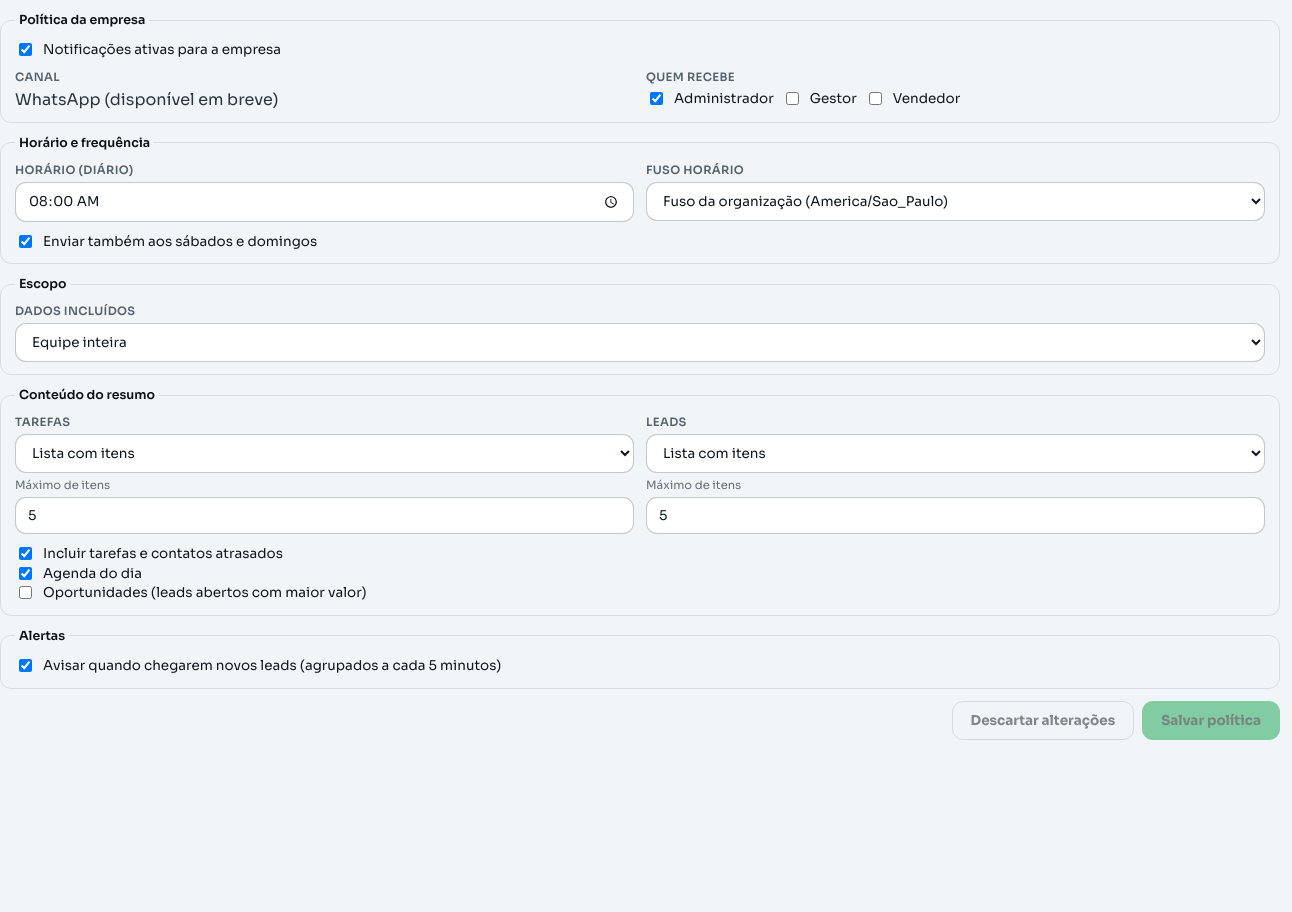
Test: CompanyPolicyPanel › envia PATCH parcial com a versão lida
Replace the text in the time field labelled "Horário (diário)" with "07:30": (324, 202) x1=15 y1=182 x2=634 y2=222
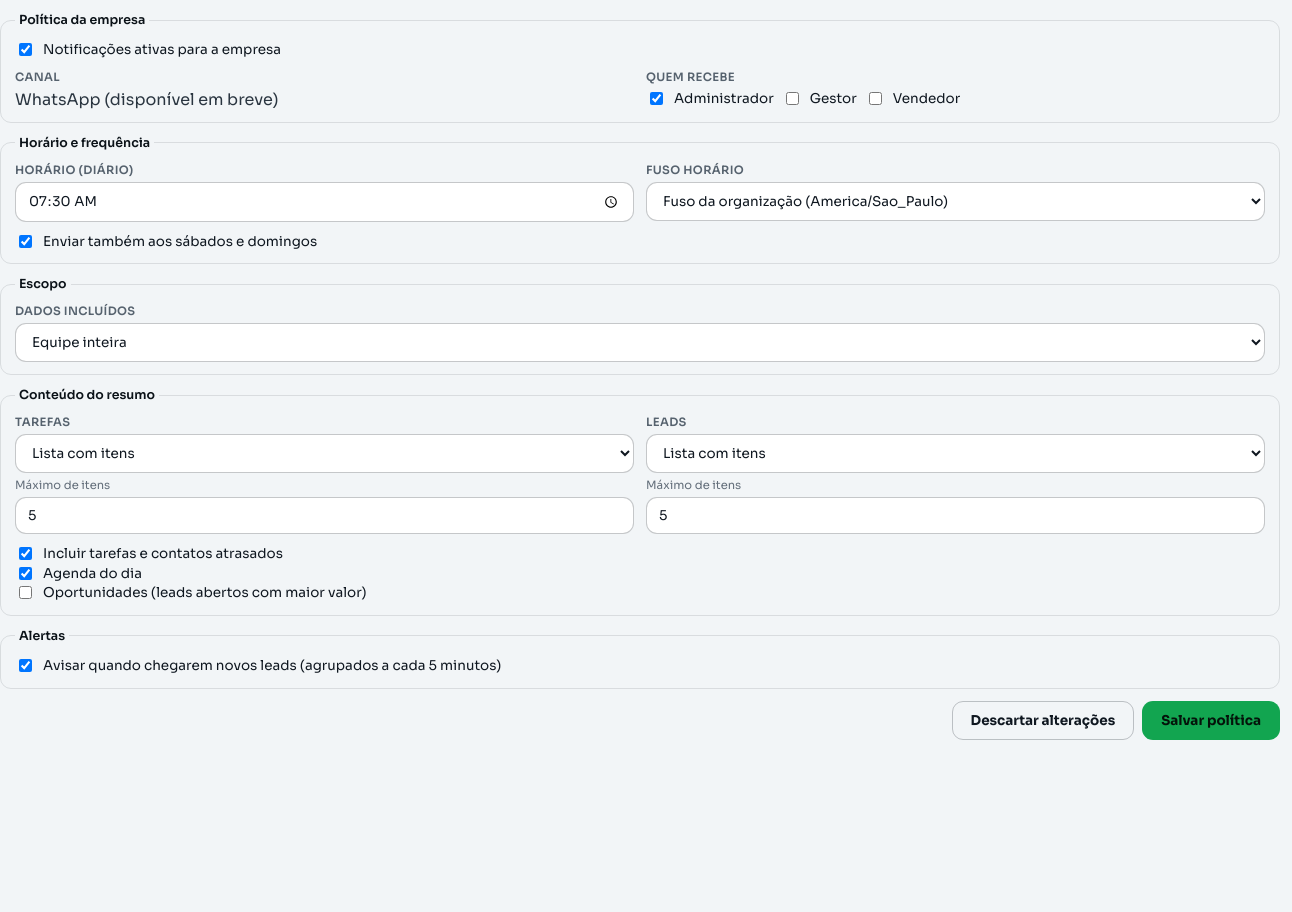
Click the button "Salvar política": (1211, 720) x1=1142 y1=700 x2=1280 y2=740
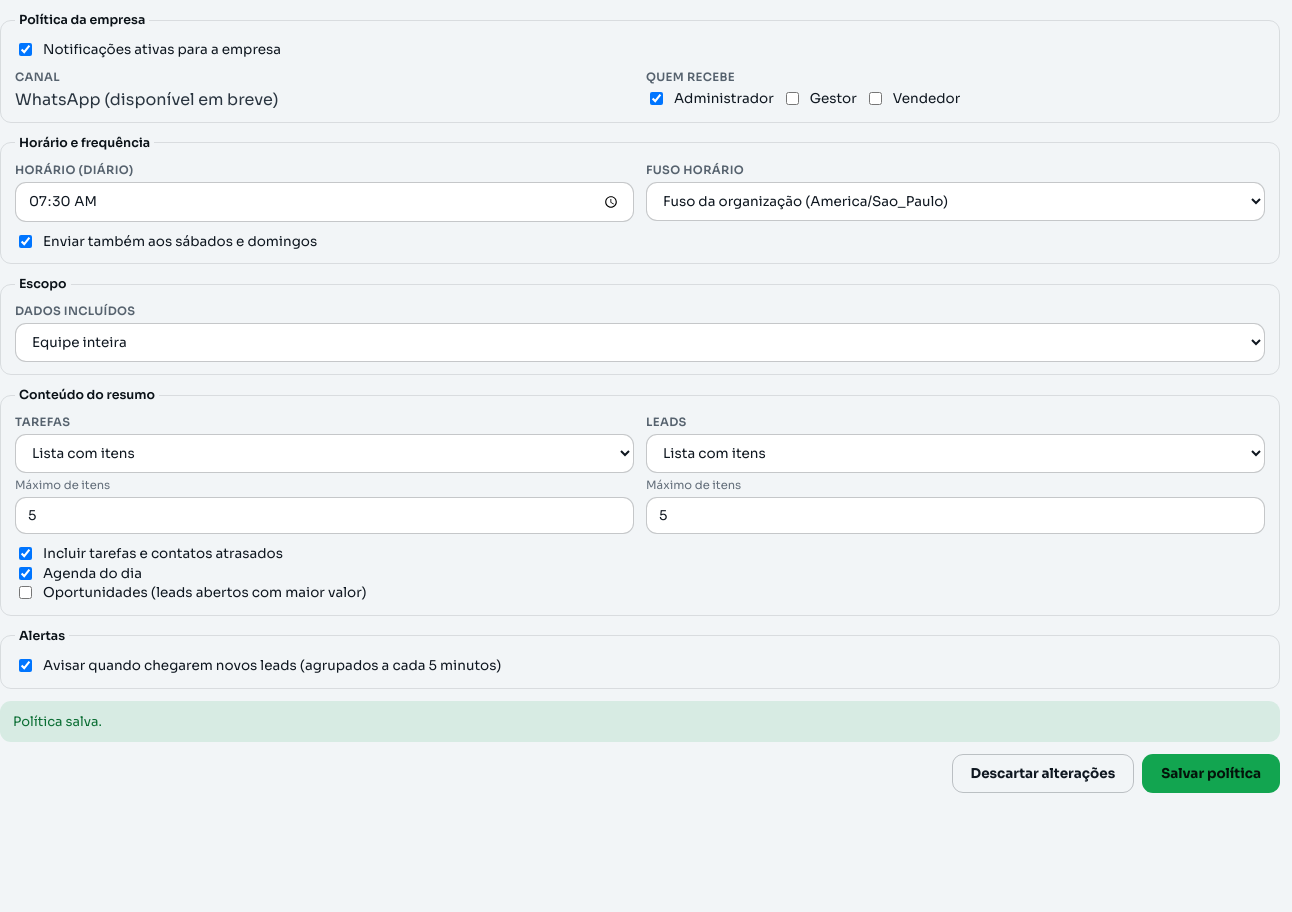
Expected: the text "Política salva." is shown, x1=0 y1=700 x2=1280 y2=742
